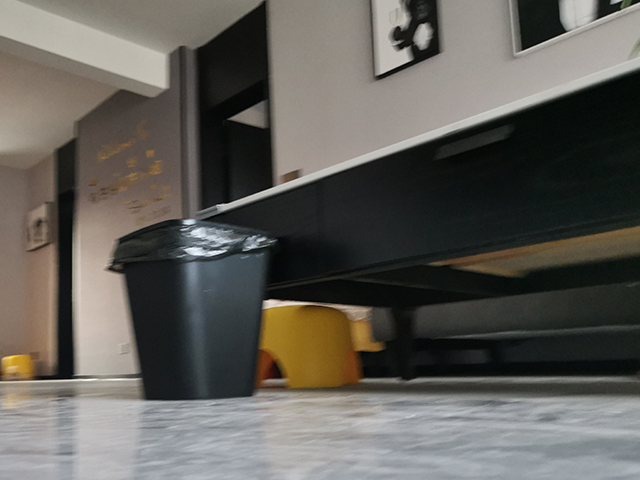stool: (256, 304, 365, 390), (1, 352, 34, 380)
table: (194, 56, 640, 381)
trashcan: (113, 217, 280, 403)
